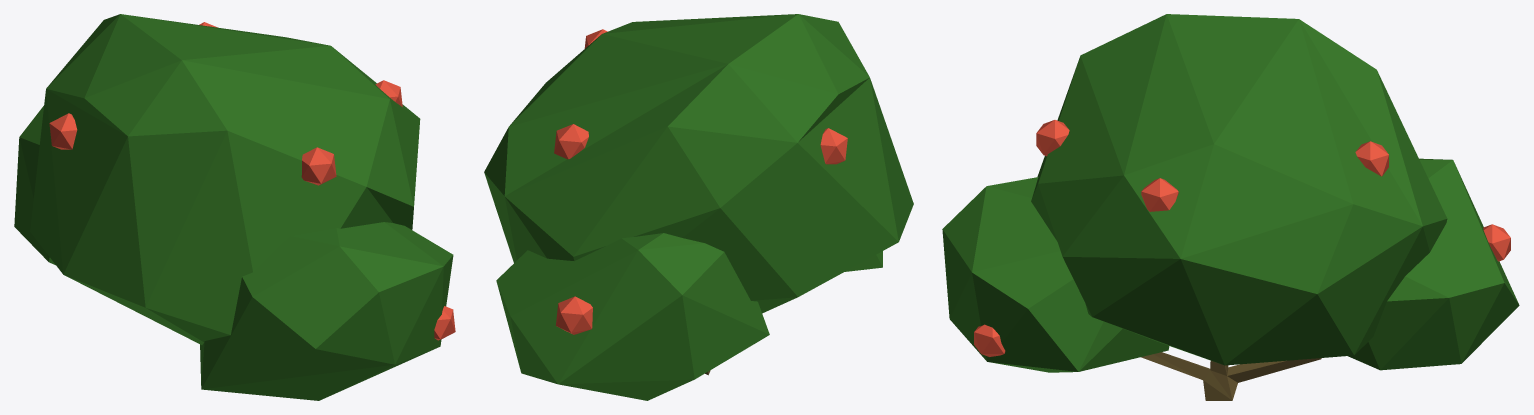
Rendered from Bush3.3.glb.
3 views of the same model, side by side, from view 1: azimuth 30°, elevation 25°; view 2: azimuth 150°, elevation 25°; view 3: azimuth 270°, elevation 25° (orthographic).
Visible parts, largest first — view 1: Bush3.3; view 2: Bush3.3; view 3: Bush3.3.
Boxes of the visible parts, x1,y1,x2,y2 form: Bush3.3: [14, 14, 455, 400]; Bush3.3: [484, 14, 913, 400]; Bush3.3: [942, 14, 1519, 400].
Size of the model in its own units: 1.18 by 1.11 by 1.64.
